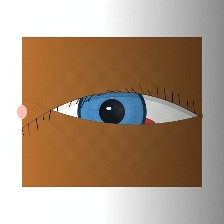hemorrhage_spot: (86, 93, 168, 159)
